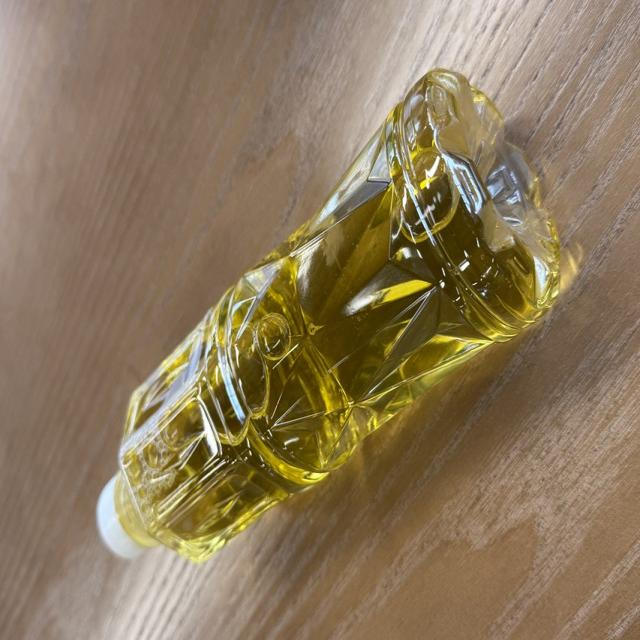high: (97, 69, 559, 560)
